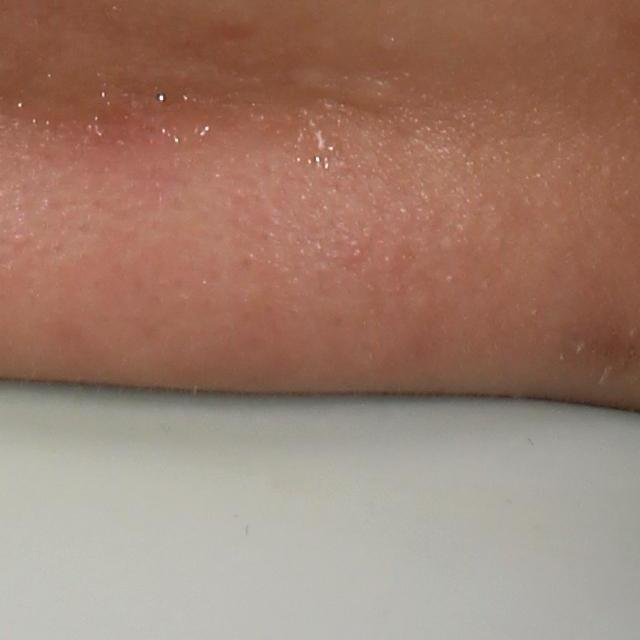hypertrophic_scar: (287, 66, 393, 111)
